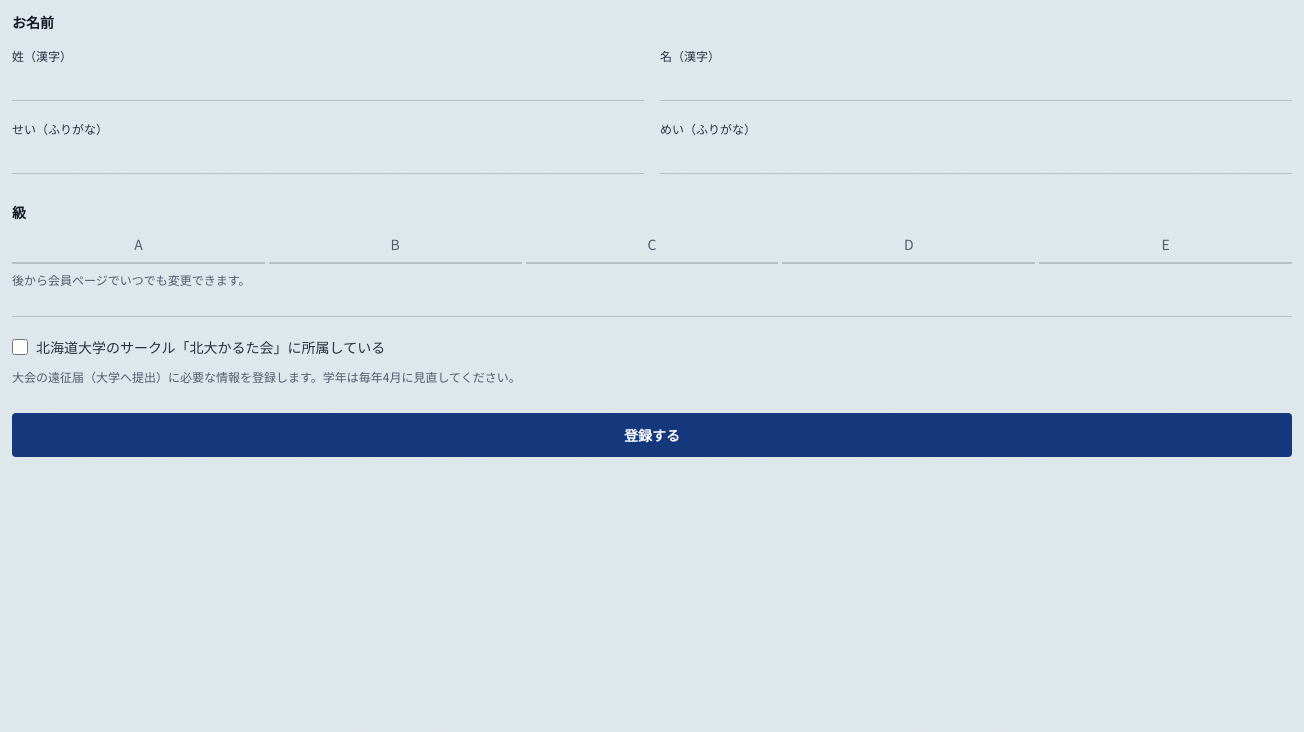
Test case: RegisterForm › 全日協チェック ON で PII が開き、OFF で閉じる（既定 ON）
Click the radio button named "B級".
click(395, 247)  # box [269, 230, 522, 264]
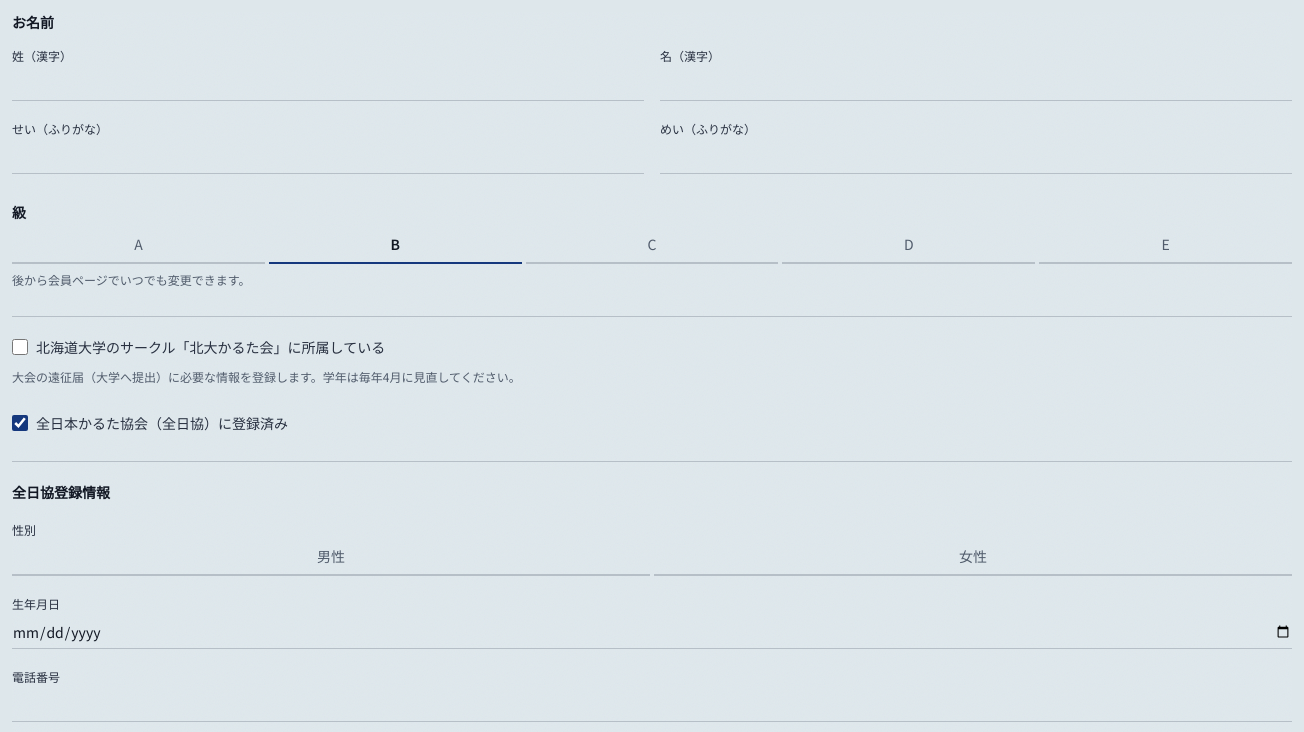
Result: the heading "全日協登録情報" is shown at [12, 482, 110, 502]
Result: the date field labelled "生年月日" is shown at [12, 616, 1292, 649]
Click the checkbox labelled "全日本かるた協会（全日協）に登録済み".
click(20, 423)  # box [12, 415, 28, 431]
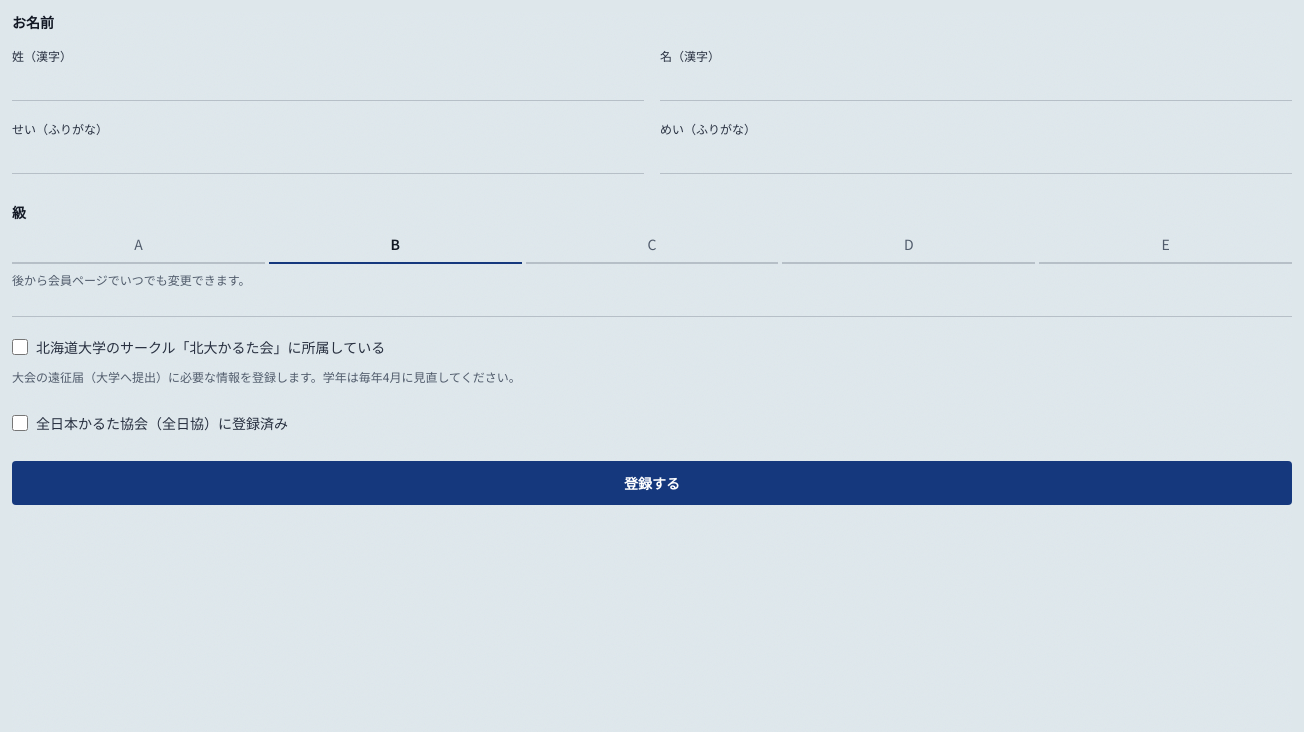
Result: the heading "全日協登録情報" is gone
